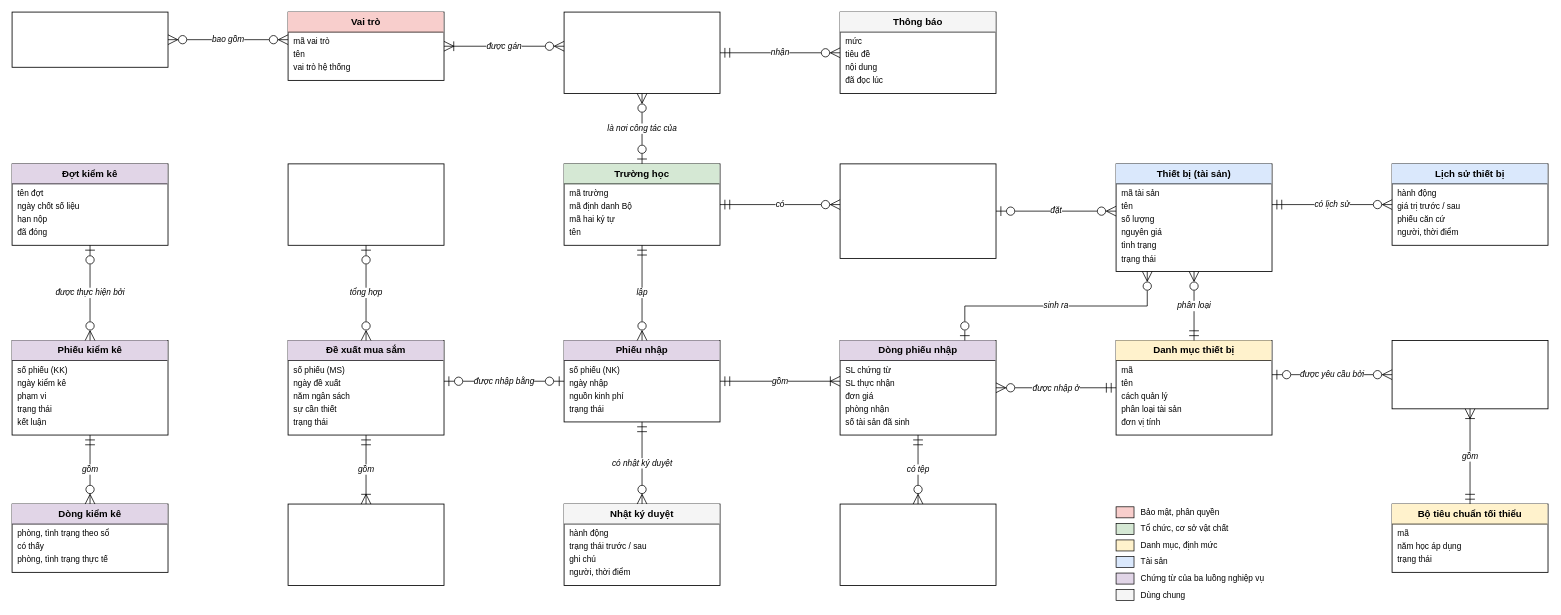
Some shapes in this 1561 by 615 pixel diagram are drawn without their labels. The box of each missing label's shape, as (x1, y1, x2, y2) in pixels:
Dòng đề xuất loại: mua mới / thay thế số lượng đơn giá mức ưu tiên: (287, 503, 444, 586)
Kế hoạch mua sắm tên kế hoạch năm ngân sách trạng thái ý kiến duyệt: (287, 163, 444, 245)
Người dùng tên đăng nhập email họ tên trạng thái: (563, 11, 720, 94)
Phòng mã tên loại phòng diện tích tình trạng sử dụng: (839, 163, 996, 258)
Quyền mã quyền (tài nguyên:hành động) tên: (11, 11, 168, 67)
Tệp đính kèm tên tệp loại dung lượng ảnh đại diện: (839, 503, 996, 586)
Định mức thiết bị số lượng tối thiểu căn cứ tính lớp áp dụng: (1391, 340, 1548, 409)
